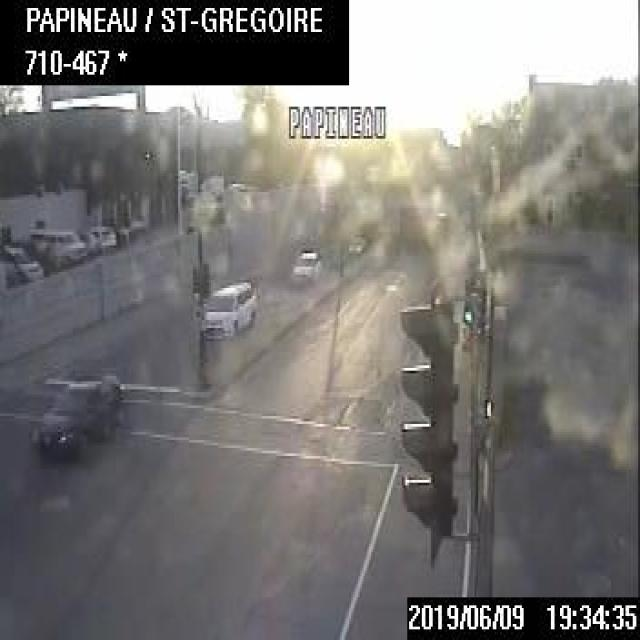vehicle: (27, 378, 118, 451), (202, 277, 256, 339), (26, 227, 88, 267), (0, 242, 44, 282), (291, 248, 320, 283), (88, 221, 118, 250), (346, 232, 364, 253)
